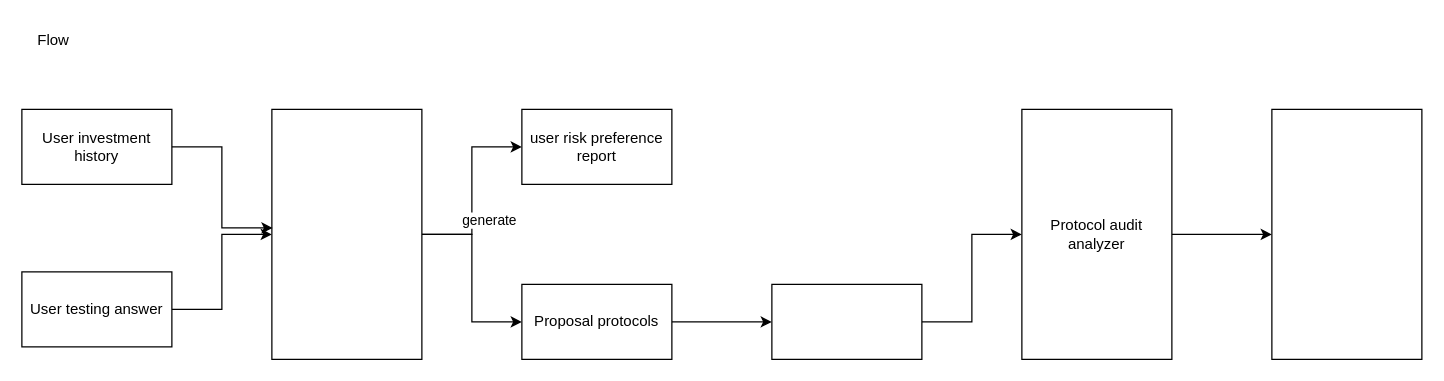
Some shapes in this 1444 by 381 pixel diagram are drawn without their labels. The shapes that lost their labels are listed below. From the top down, each one's centre as x and y in pixels, then its label:
point (346, 233): user risk preference analyzer
point (1346, 233): Protocols investment analysis report
point (846, 321): User choose protocols
